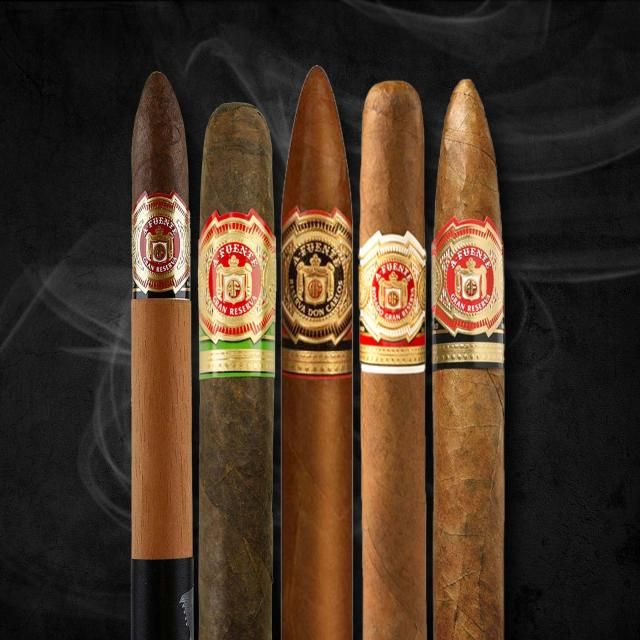Arturo Fuente: (198, 208, 276, 346), (282, 206, 353, 347), (431, 216, 504, 338), (359, 231, 425, 344), (132, 190, 190, 294)
